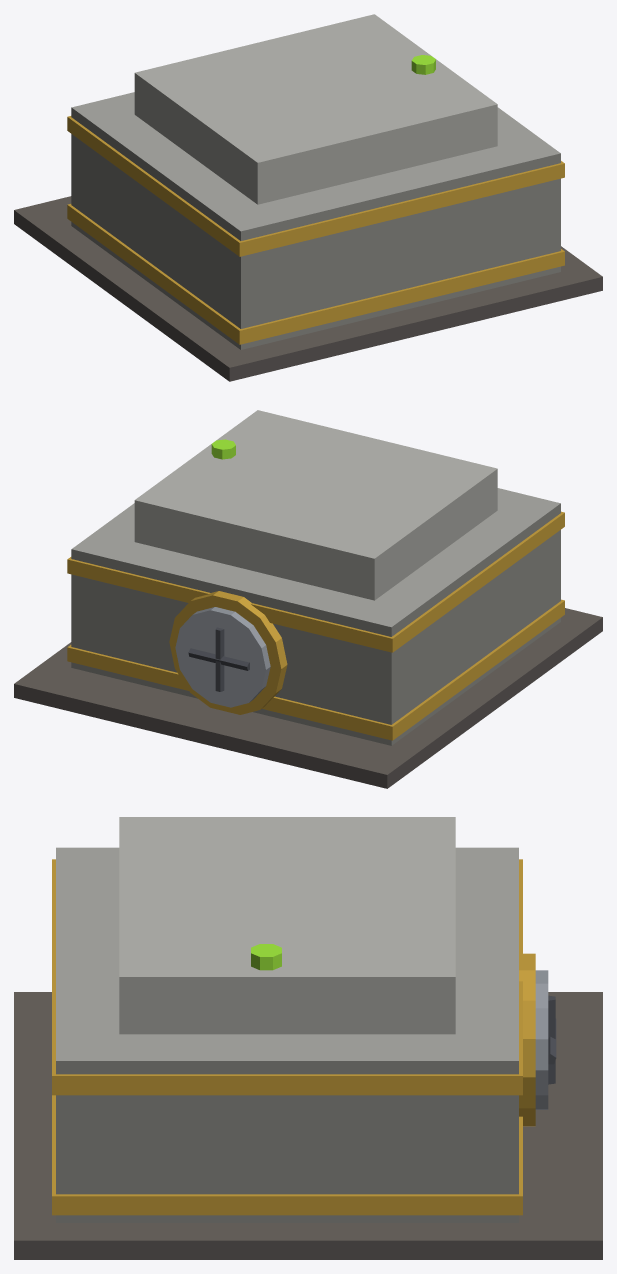
The model's file is vault.obj.
3 views of the same model, one above another, from view 1: azimuth 30°, elevation 25°; view 2: azimuth 150°, elevation 25°; view 3: azimuth 270°, elevation 25° (orthographic). The views are drawn at different scales.
Size of the model in its own units: 2.8 by 1.32 by 2.8.
